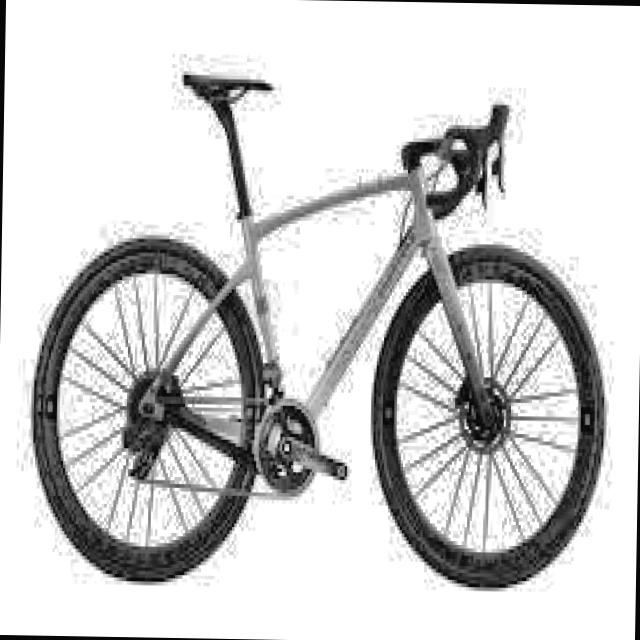bicycle: (21, 49, 617, 596)
